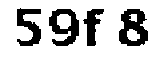5: (14, 6, 44, 52)
8: (116, 6, 151, 51)
9: (47, 5, 80, 52)
f: (82, 3, 105, 51)
